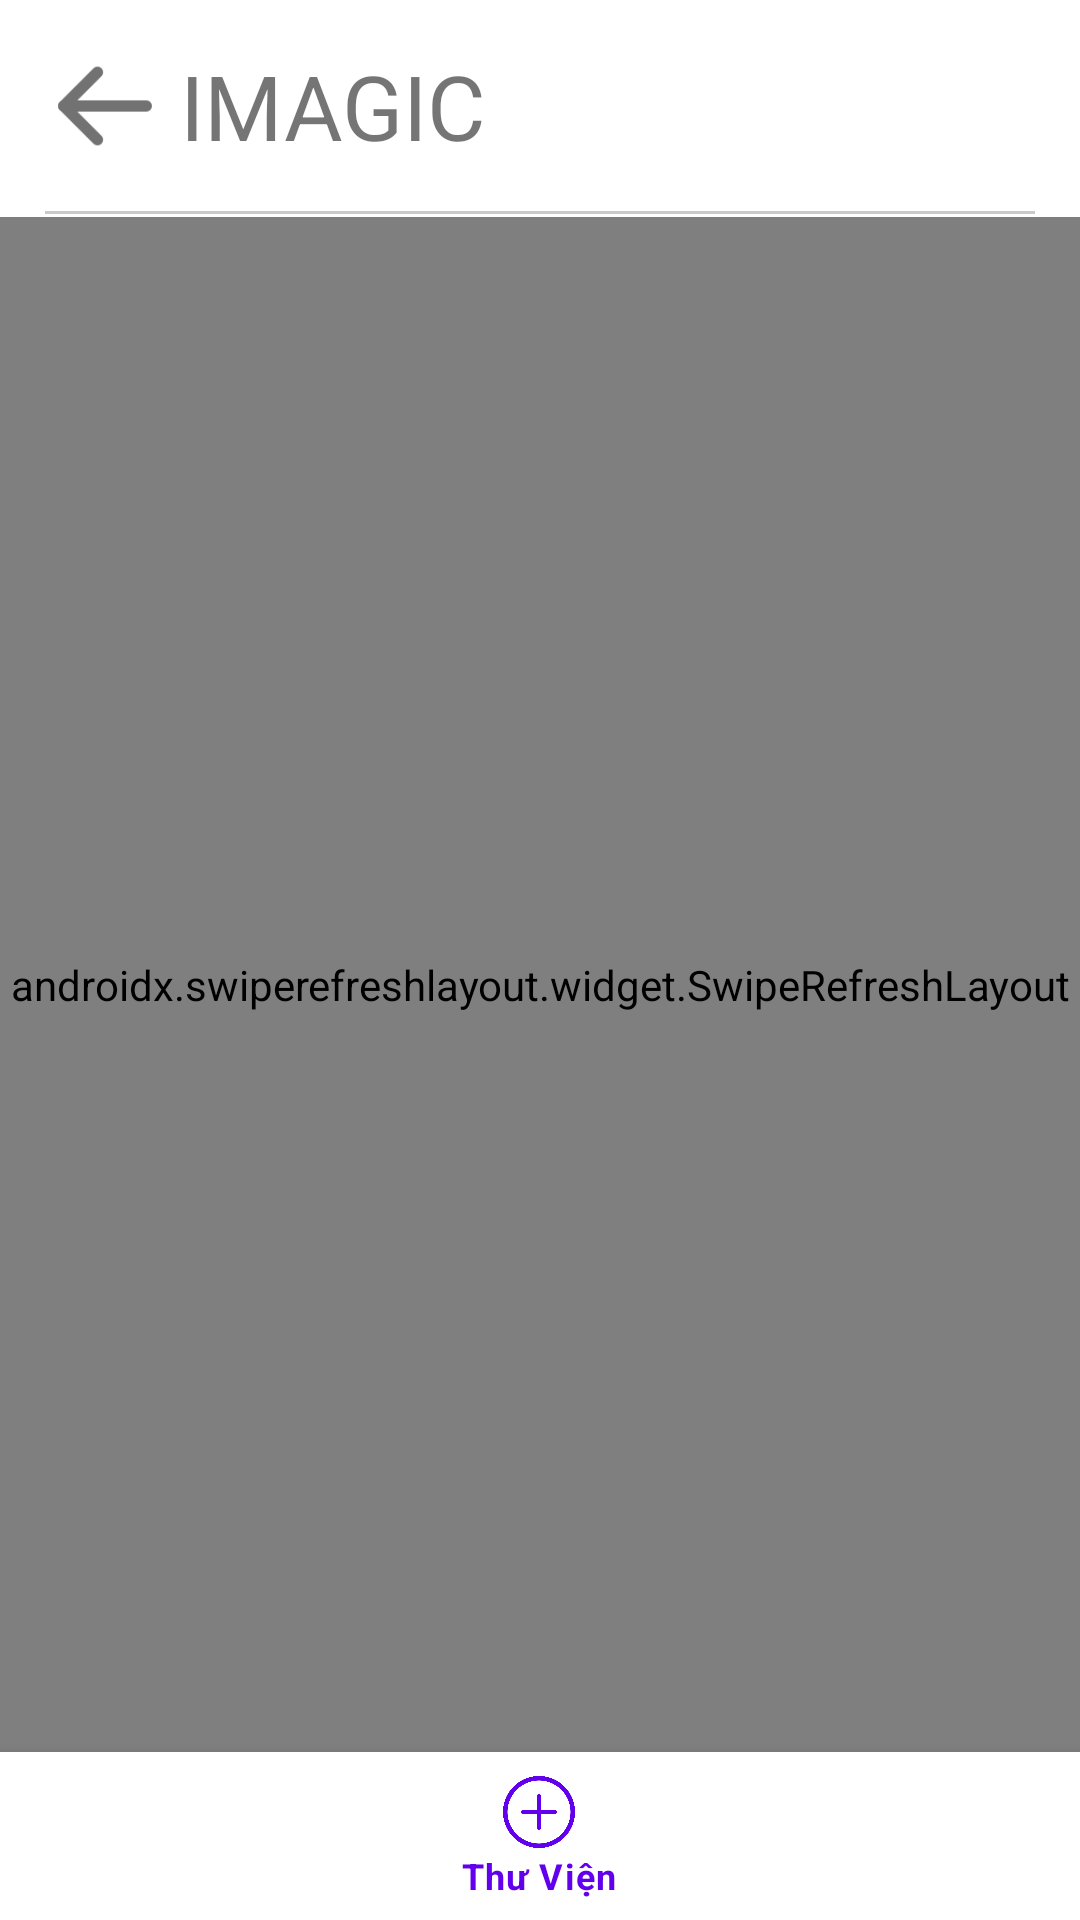

Screen size 1080w x 1920h. Icon name, then its center in pixels as (x,y):
left arrow: (105,106)
